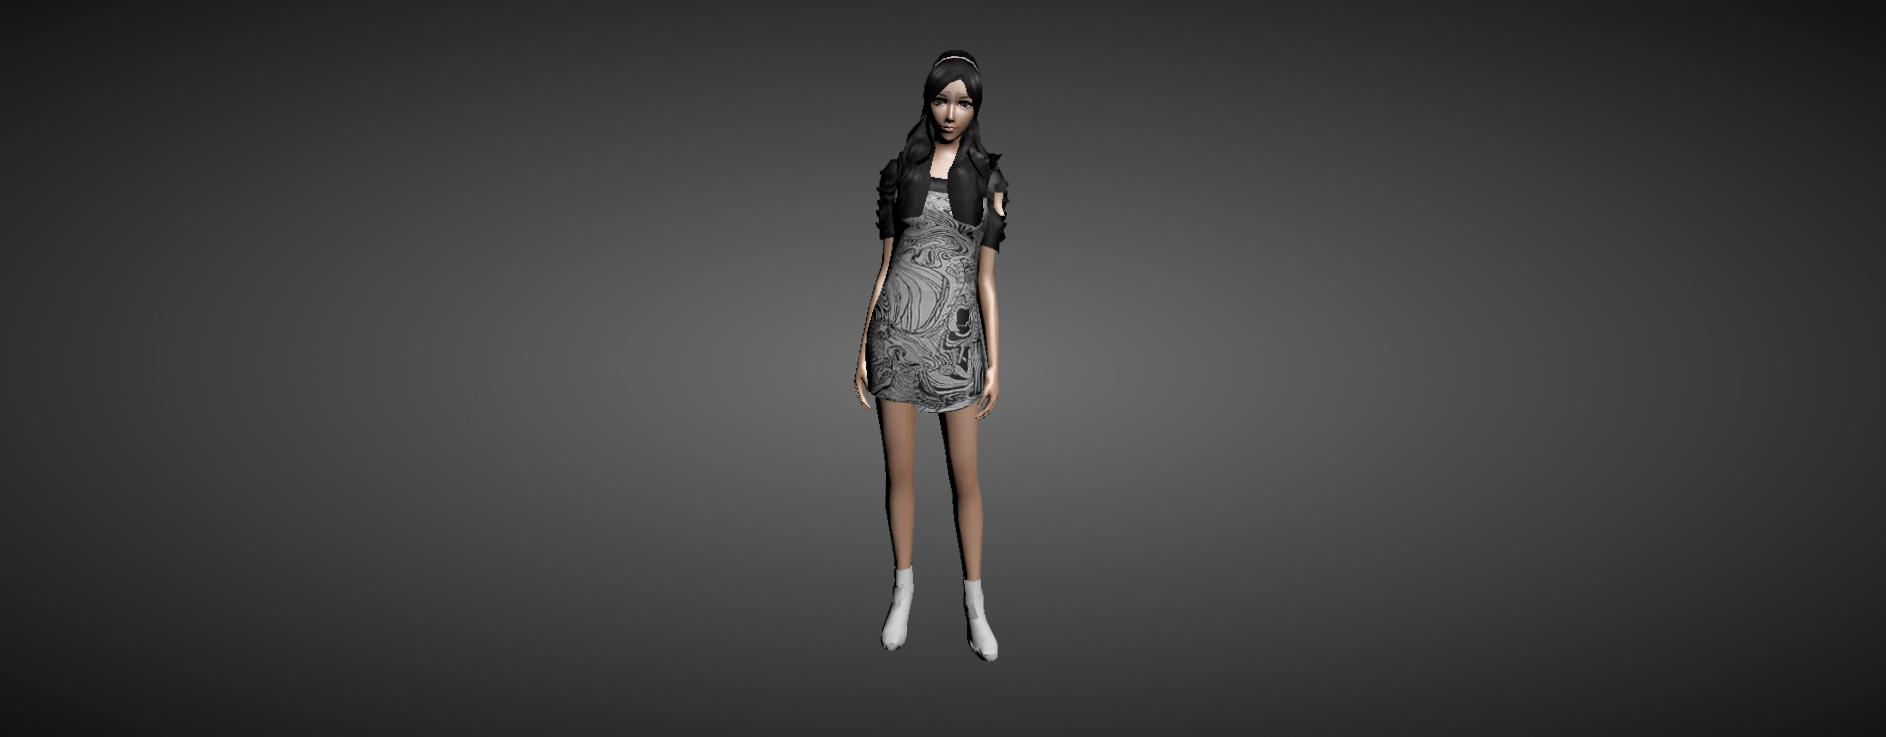clip: (985, 182, 1010, 213)
